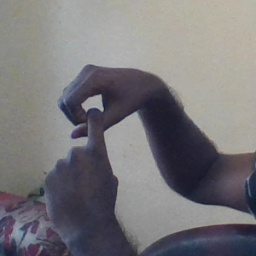Q: (40, 62, 153, 203)
